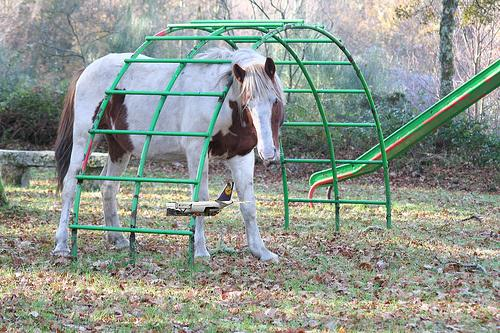tampered: (166, 183, 251, 216)
